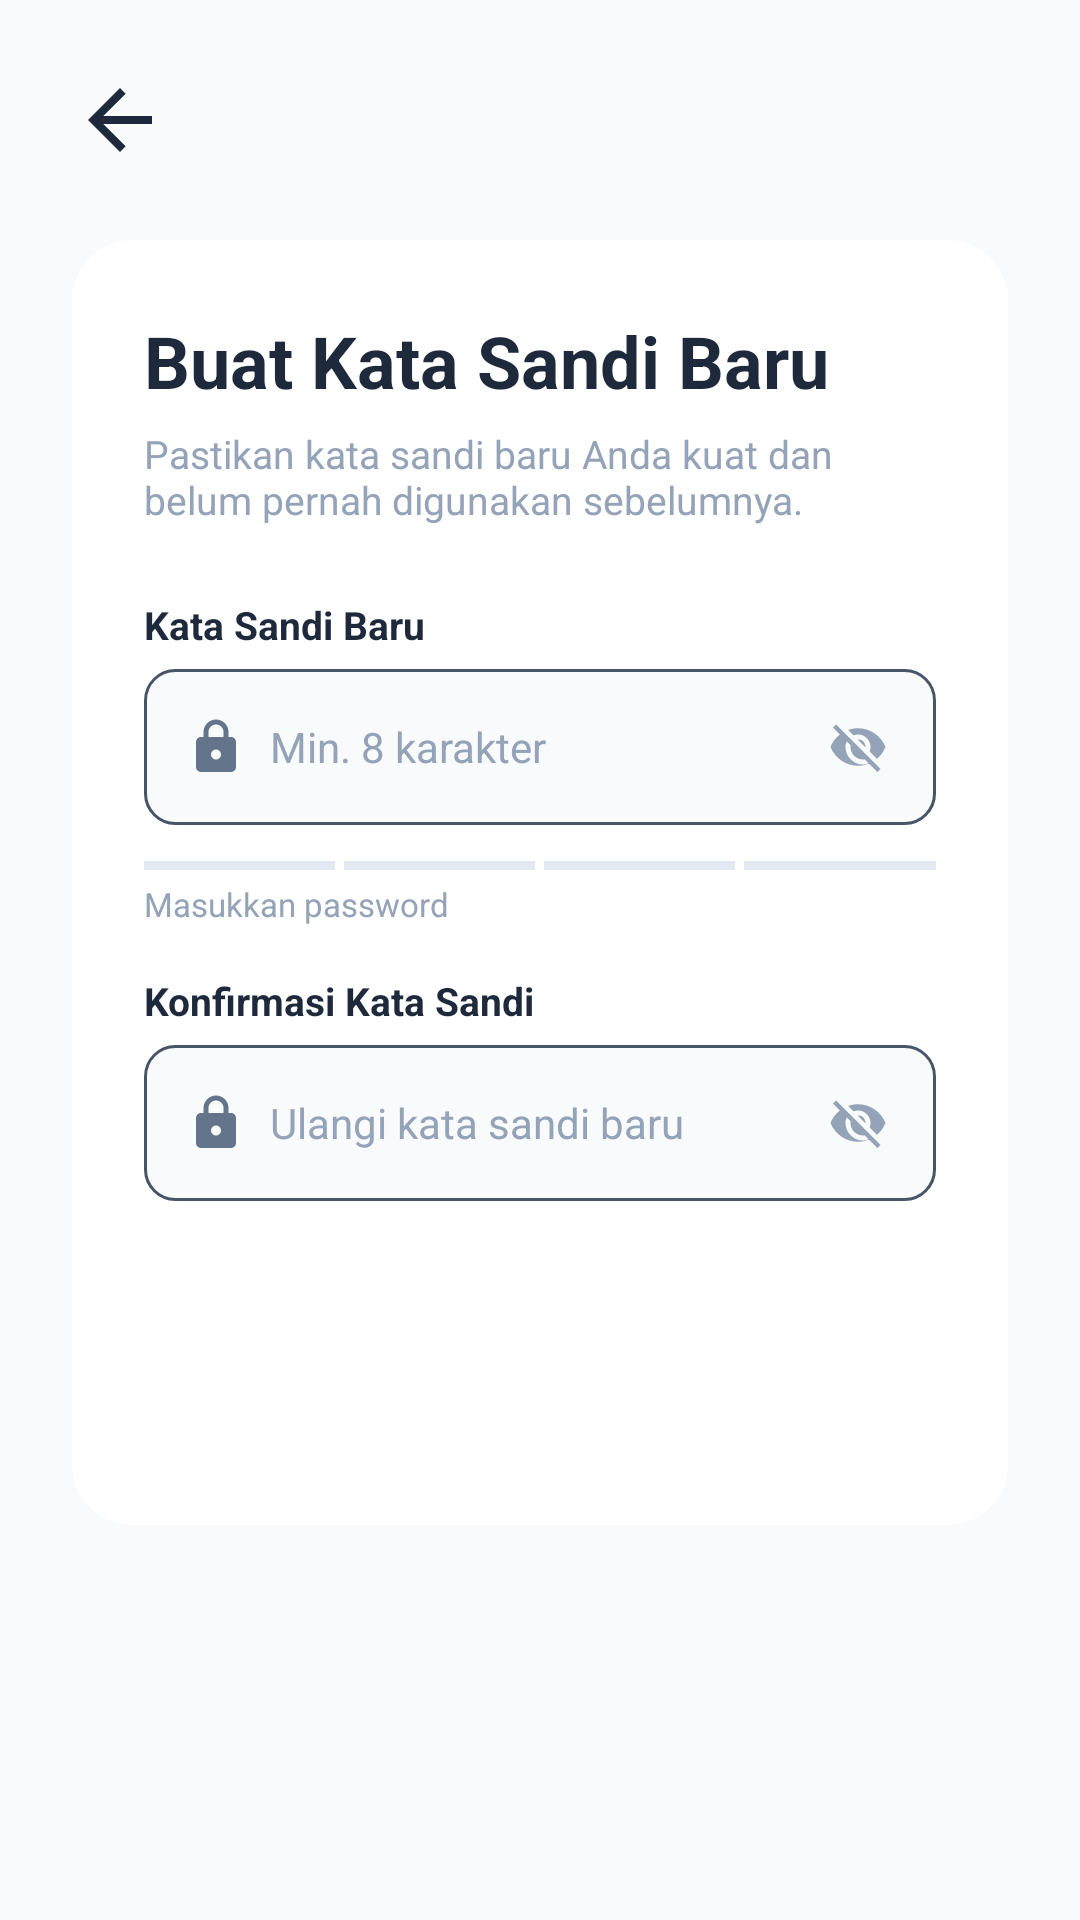

Locate icon controls on the screen. Image size 1080 × 1920, boxes as (x1, y1, x2, y2).
Kembali: (88, 88, 152, 152)
lock: (196, 719, 236, 772), (196, 1095, 236, 1148)
visibility off: (830, 725, 886, 772), (830, 1101, 886, 1148)
